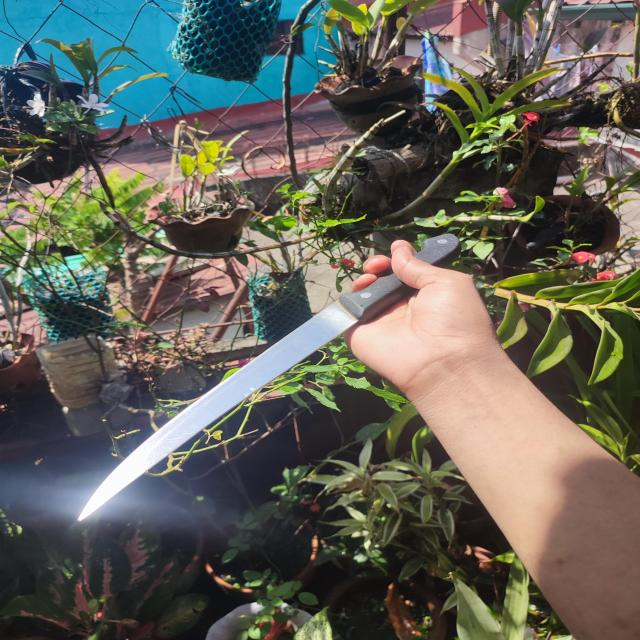knife: (78, 230, 462, 521)
